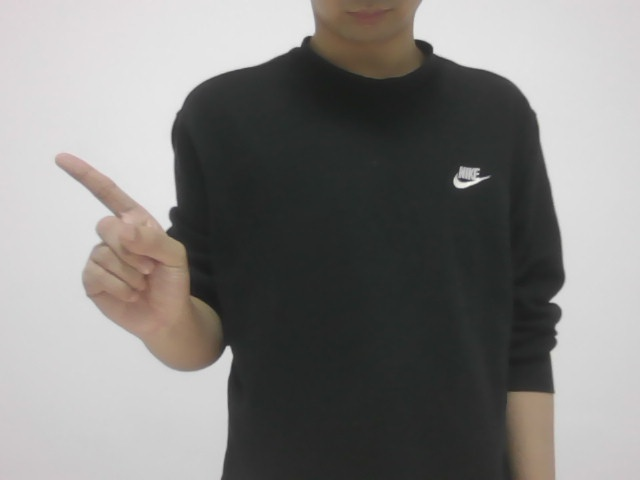what: (41, 147, 189, 351)
